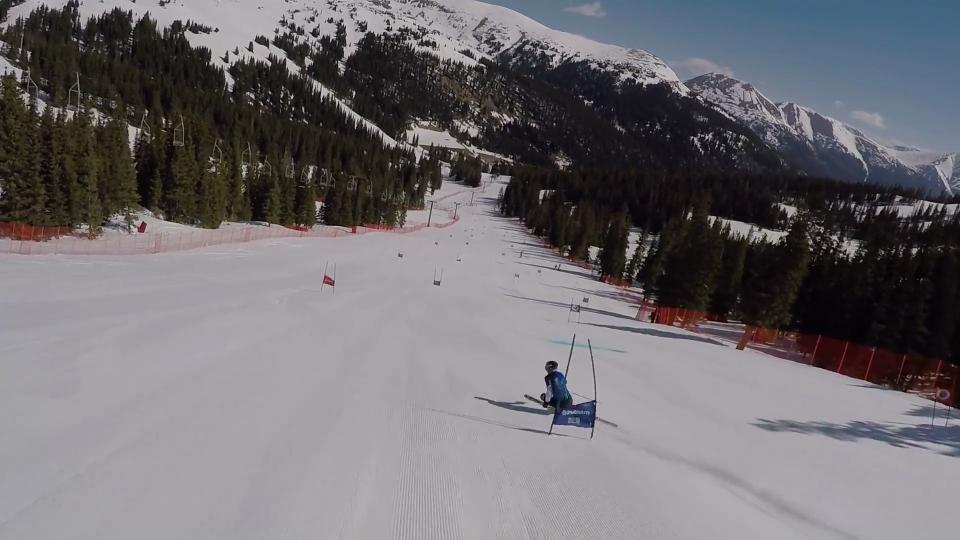gate: (577, 332, 609, 436)
